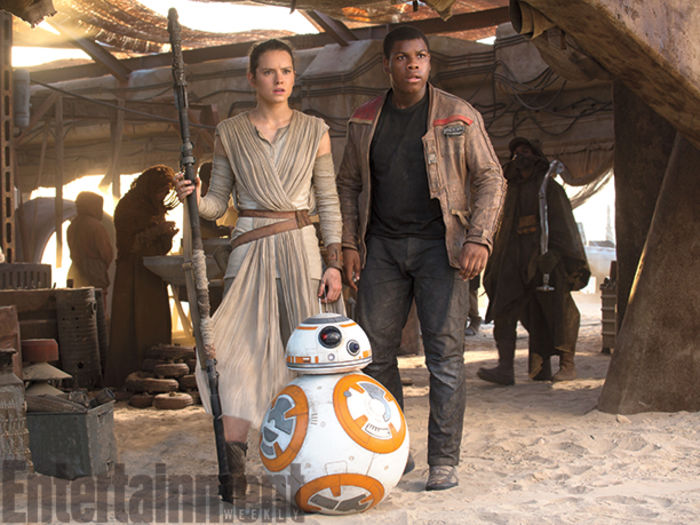bb8: (258, 313, 410, 516)
